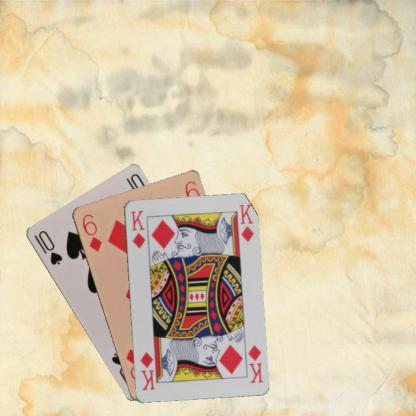10s: (30, 228, 64, 266)
6d: (79, 211, 103, 253)
Kd: (245, 342, 264, 384), (128, 208, 146, 250)
